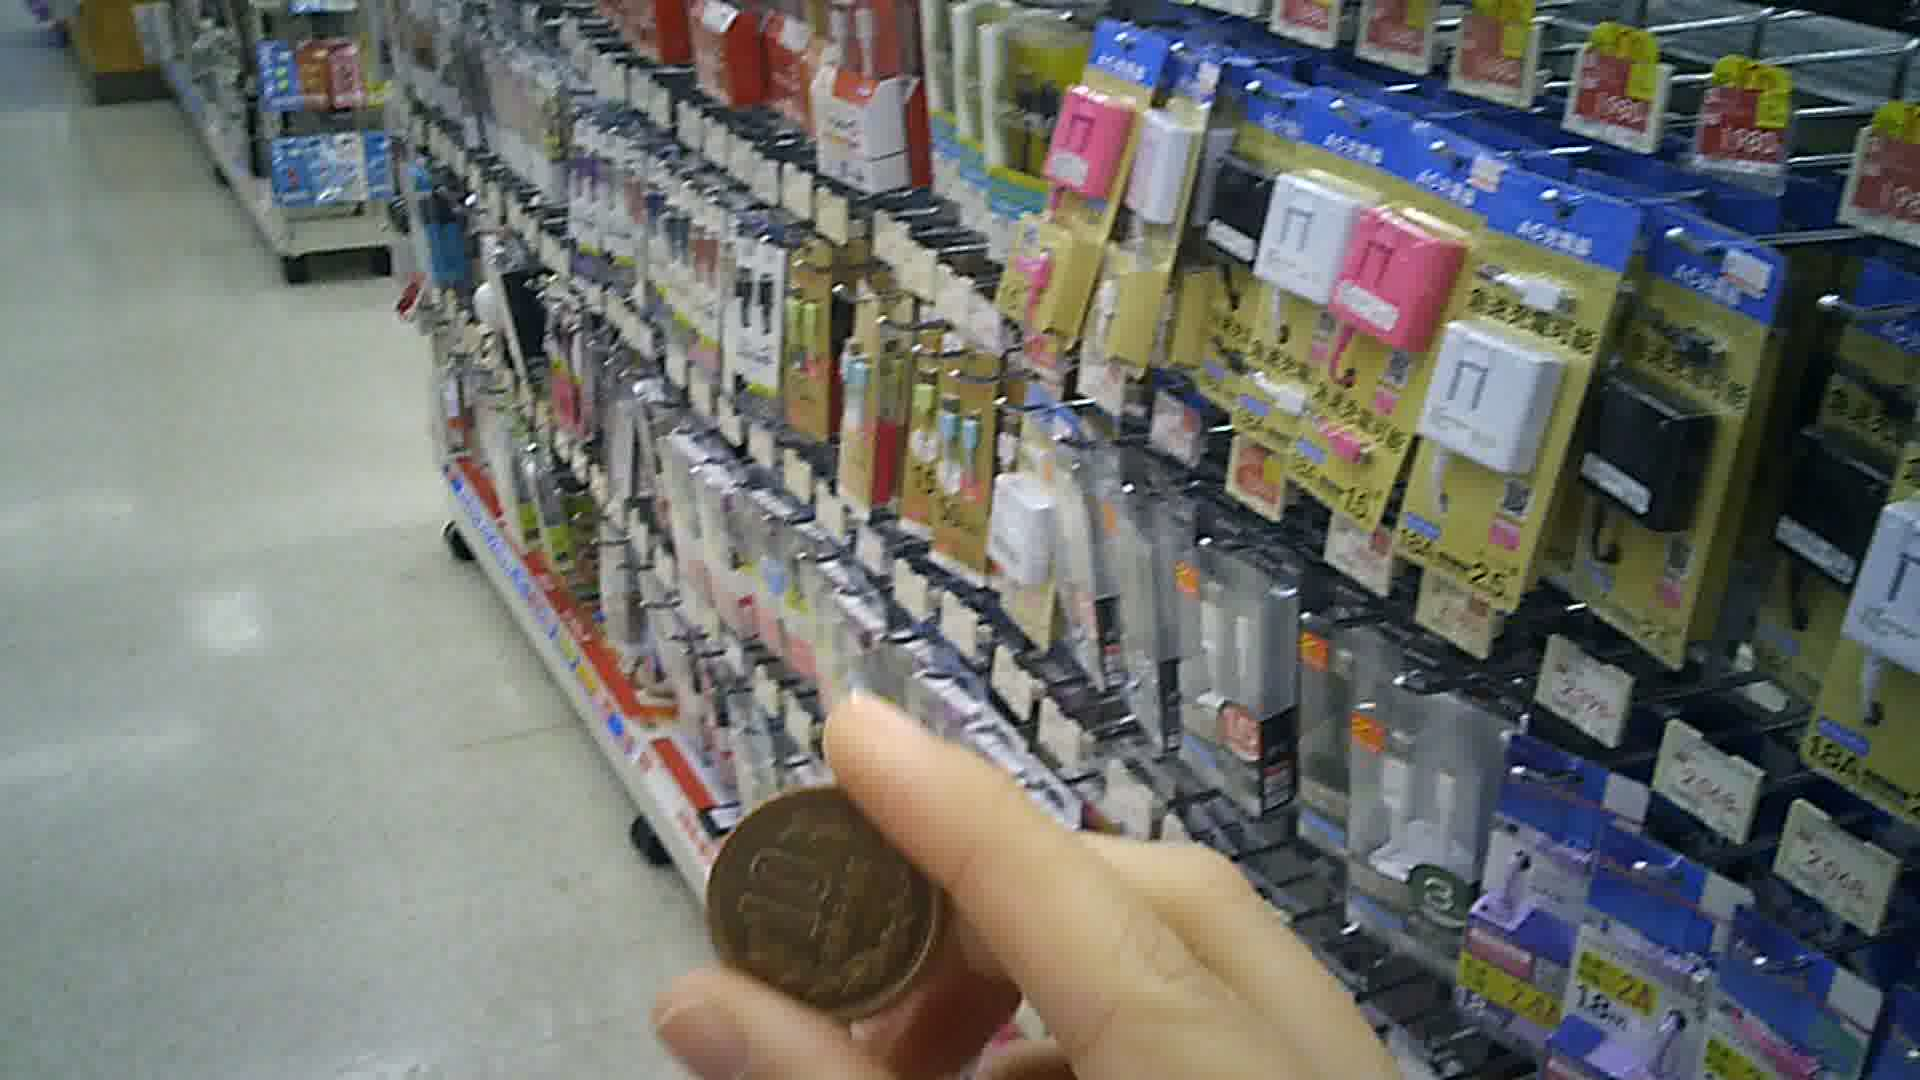10 Yen: (708, 778, 942, 1015)
